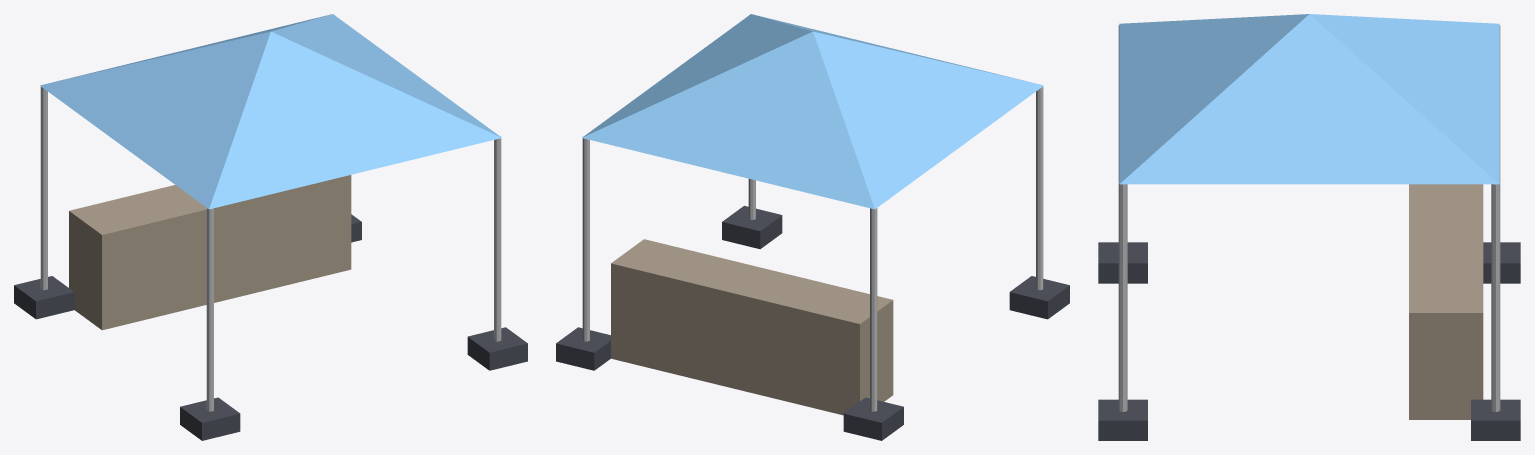
The model's file is SM_Tonnelle_prevention.glb.
3 views of the same model, side by side, from view 1: azimuth 30°, elevation 25°; view 2: azimuth 150°, elevation 25°; view 3: azimuth 270°, elevation 25° (orthographic). The views are drawn at different scales.
Visible parts, largest first — view 1: SM_Tonnelle_prevention_4, SM_Tonnelle_prevention_5, SM_Tonnelle_prevention_7, SM_Tonnelle_prevention_9, SM_Tonnelle_prevention_6, SM_Tonnelle_prevention_1, SM_Tonnelle_prevention_3, SM_Tonnelle_prevention_0; view 2: SM_Tonnelle_prevention_4, SM_Tonnelle_prevention_5, SM_Tonnelle_prevention_6, SM_Tonnelle_prevention_9, SM_Tonnelle_prevention_7, SM_Tonnelle_prevention_8, SM_Tonnelle_prevention_0, SM_Tonnelle_prevention_2, SM_Tonnelle_prevention_1; view 3: SM_Tonnelle_prevention_4, SM_Tonnelle_prevention_5, SM_Tonnelle_prevention_2, SM_Tonnelle_prevention_3, SM_Tonnelle_prevention_8, SM_Tonnelle_prevention_9, SM_Tonnelle_prevention_7, SM_Tonnelle_prevention_6.
Boxes of the visible parts, x1,y1,x2,y2 form: SM_Tonnelle_prevention_4: [40, 14, 501, 209]; SM_Tonnelle_prevention_5: [69, 175, 351, 330]; SM_Tonnelle_prevention_7: [180, 397, 240, 440]; SM_Tonnelle_prevention_9: [467, 327, 527, 370]; SM_Tonnelle_prevention_6: [14, 276, 74, 319]; SM_Tonnelle_prevention_1: [206, 208, 213, 411]; SM_Tonnelle_prevention_3: [494, 136, 501, 341]; SM_Tonnelle_prevention_0: [40, 84, 47, 290]; SM_Tonnelle_prevention_4: [582, 14, 1043, 209]; SM_Tonnelle_prevention_5: [611, 239, 893, 415]; SM_Tonnelle_prevention_6: [843, 397, 903, 440]; SM_Tonnelle_prevention_9: [722, 205, 782, 249]; SM_Tonnelle_prevention_7: [1009, 276, 1069, 319]; SM_Tonnelle_prevention_8: [556, 327, 610, 370]; SM_Tonnelle_prevention_0: [870, 208, 877, 411]; SM_Tonnelle_prevention_2: [582, 136, 589, 341]; SM_Tonnelle_prevention_1: [1036, 84, 1043, 290]; SM_Tonnelle_prevention_4: [1119, 14, 1499, 184]; SM_Tonnelle_prevention_5: [1409, 184, 1483, 419]; SM_Tonnelle_prevention_2: [1491, 182, 1500, 411]; SM_Tonnelle_prevention_3: [1118, 182, 1127, 411]; SM_Tonnelle_prevention_8: [1471, 399, 1520, 440]; SM_Tonnelle_prevention_9: [1098, 399, 1147, 440]; SM_Tonnelle_prevention_7: [1098, 242, 1147, 283]; SM_Tonnelle_prevention_6: [1483, 242, 1520, 283].
Size of the model in its own units: 3.4 by 3 by 3.4.
